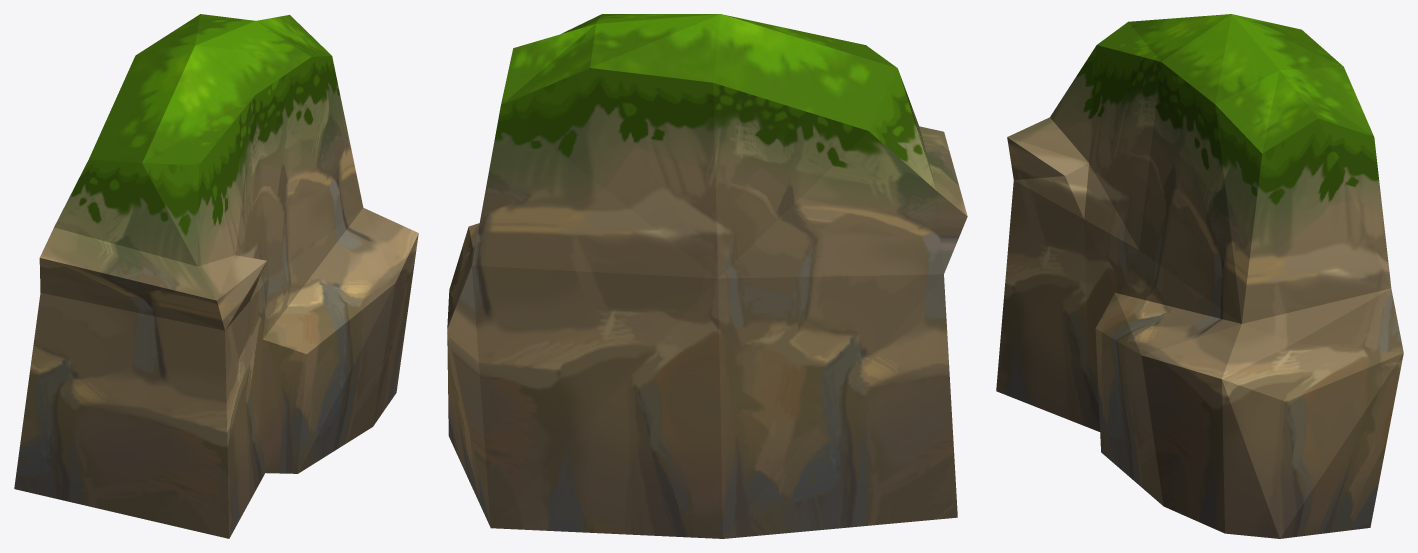
Rendered from shitou06.FBX.
3 views of the same model, side by side, from view 1: azimuth 30°, elevation 25°; view 2: azimuth 150°, elevation 25°; view 3: azimuth 270°, elevation 25° (orthographic). The views are drawn at different scales.
Visible parts, largest first — view 1: Object008, Object013; view 2: Object008, Object013; view 3: Object008, Object013.
Part boxes in pixels (left/top/right/bottom): Object008: left=14, top=56, right=418, bottom=538; Object013: left=89, top=14, right=331, bottom=165; Object008: left=447, top=68, right=967, bottom=538; Object013: left=501, top=14, right=897, bottom=130; Object008: left=996, top=45, right=1403, bottom=538; Object013: left=1097, top=14, right=1373, bottom=153.
Size of the model in its own units: 124 by 122 by 101.
